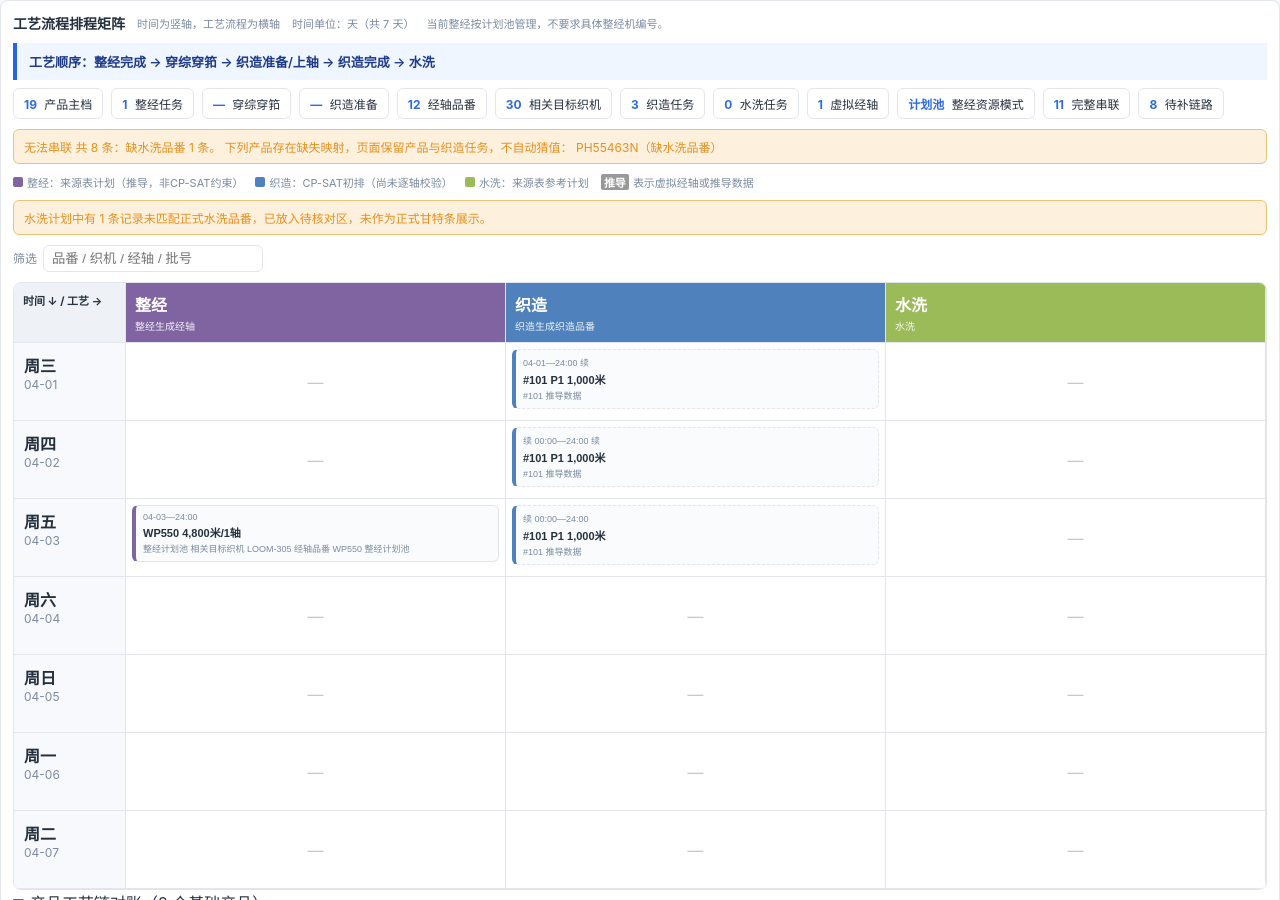
Test: ProcessGantt › 整经条点击打开详情抽屉并显示经轴/规格/来源
Click the button with test id "pg-bar" that starts with "WP550 4,800米/1轴".
click(192, 533)  # box top-left (132, 505), bottom-right (499, 562)
(page scrolled)
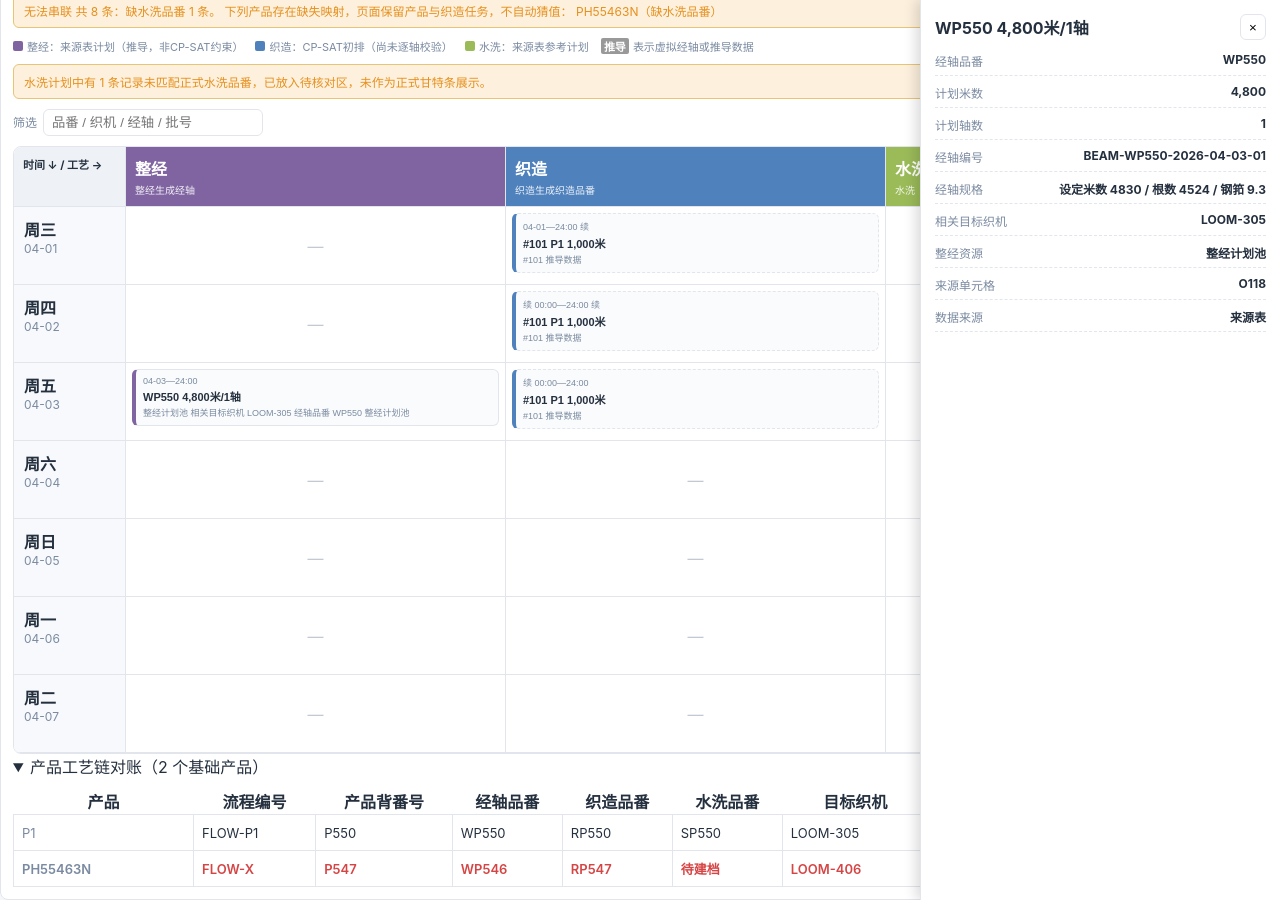
Check: the element with test id "pg-drawer" is shown, box top-left (920, 0), bottom-right (1279, 899)
Check: the text "经轴编号" is shown, box top-left (935, 148), bottom-right (983, 165)
Check: the text "BEAM-WP550-2026-04-03-01" is shown, box top-left (1084, 148), bottom-right (1266, 165)
